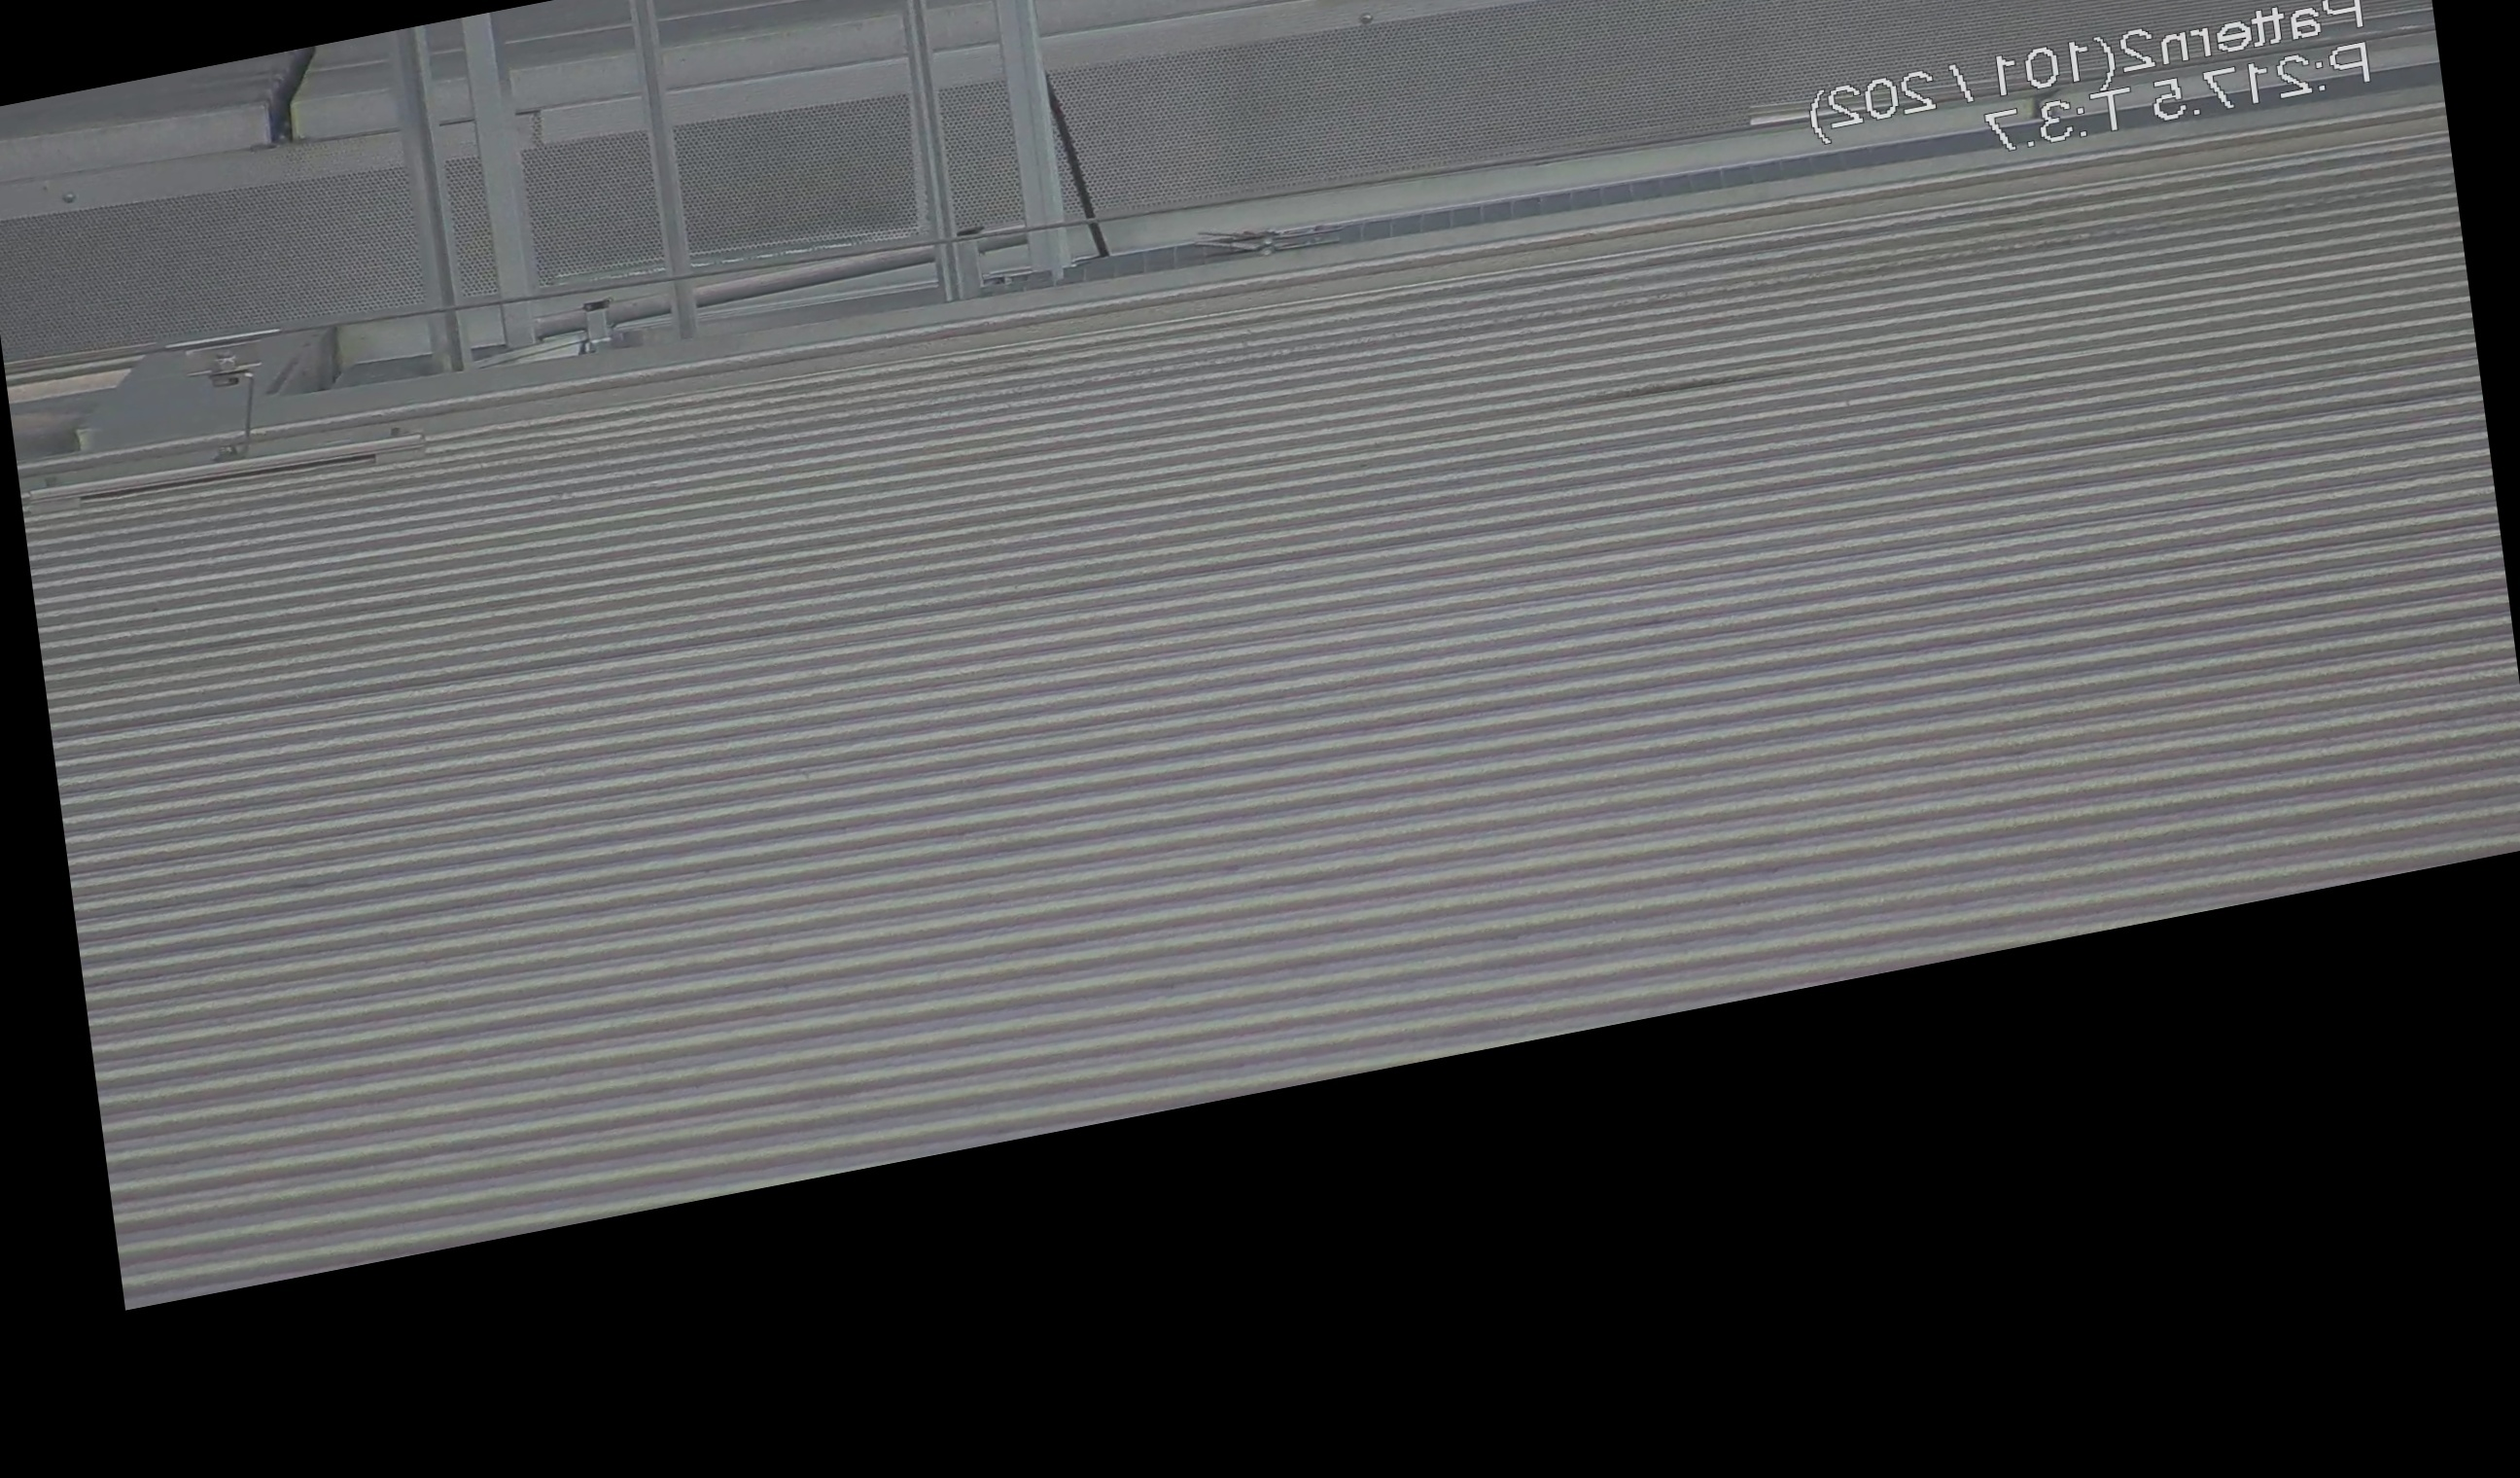Other: (223, 12, 329, 157)
